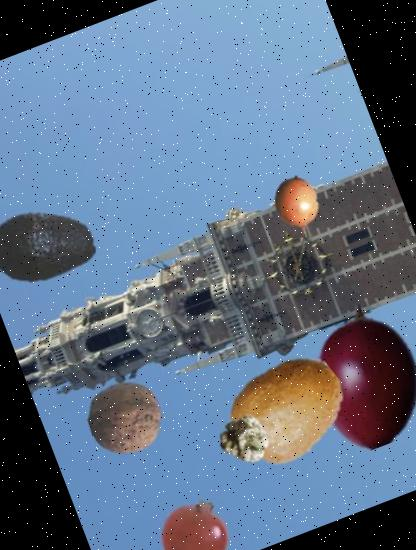Avocado: (0, 179, 112, 317)
Cauliflower: (211, 408, 278, 475)
Granadilla: (256, 166, 340, 250)
Kiwi: (211, 332, 365, 486)
Redcurrant: (152, 488, 241, 550)
Tamarillo: (274, 285, 416, 468)
Walnut: (78, 370, 174, 466)
